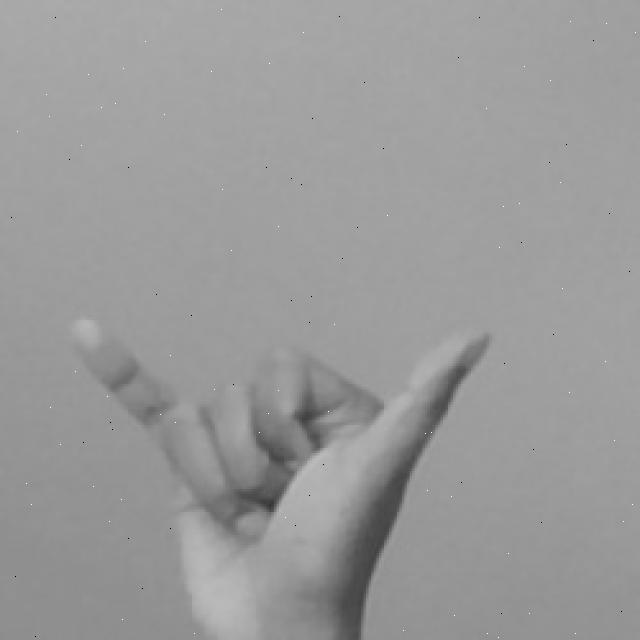Y: (61, 310, 496, 640)
